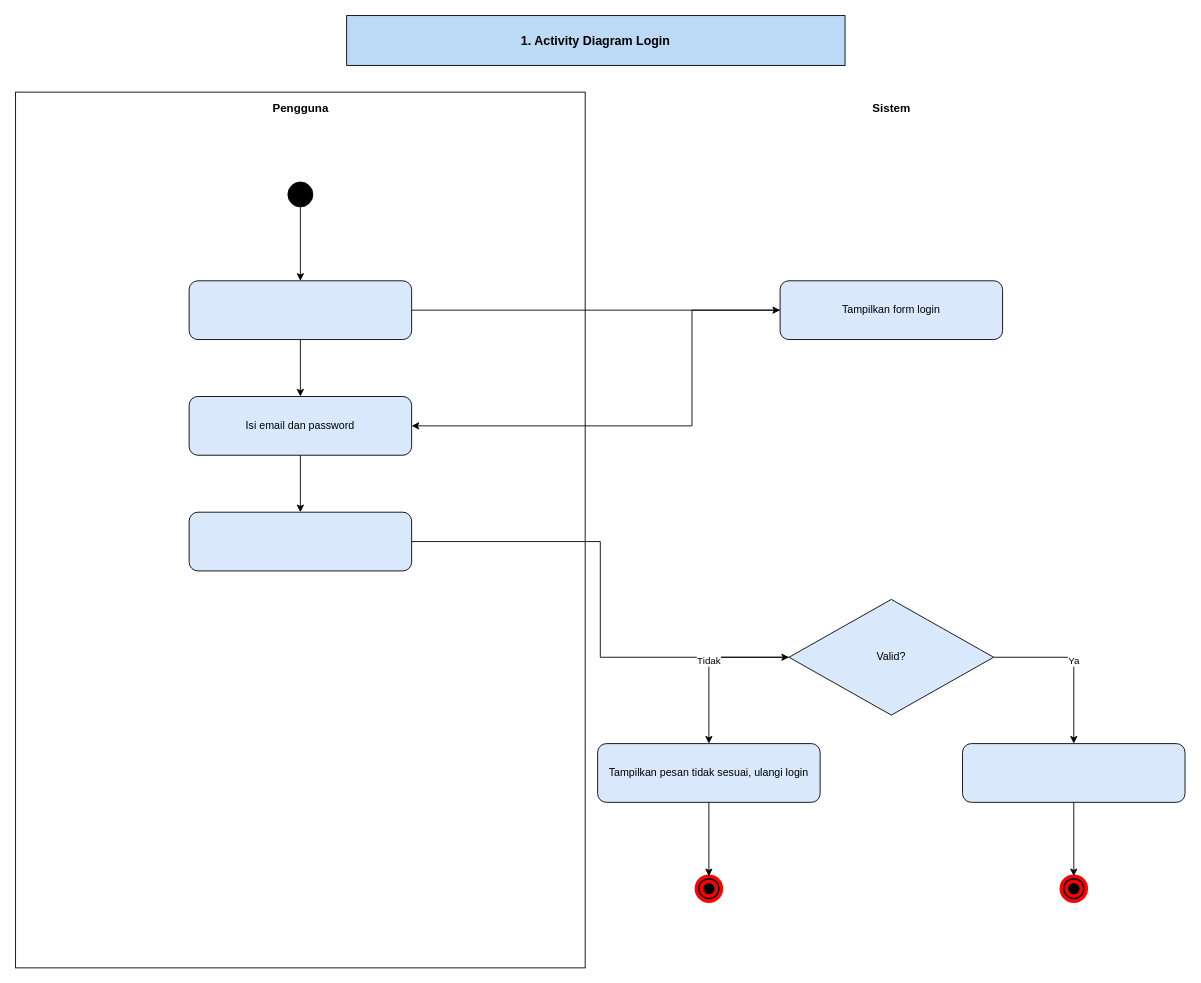
Image size: 1201x983. Some labels were removed from this diagram. Here are the shapes that lost their labels. From the top down, the box of each, then its label:
(188, 280, 412, 340): Buka halaman login
(188, 511, 412, 571): Klik tombol Login
(962, 743, 1185, 802): Menampilkan dashboard sesuai peran
